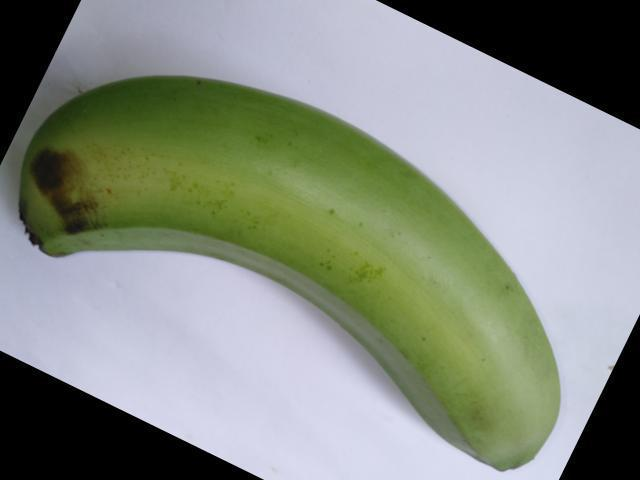freshunripe: (13, 70, 574, 479)
